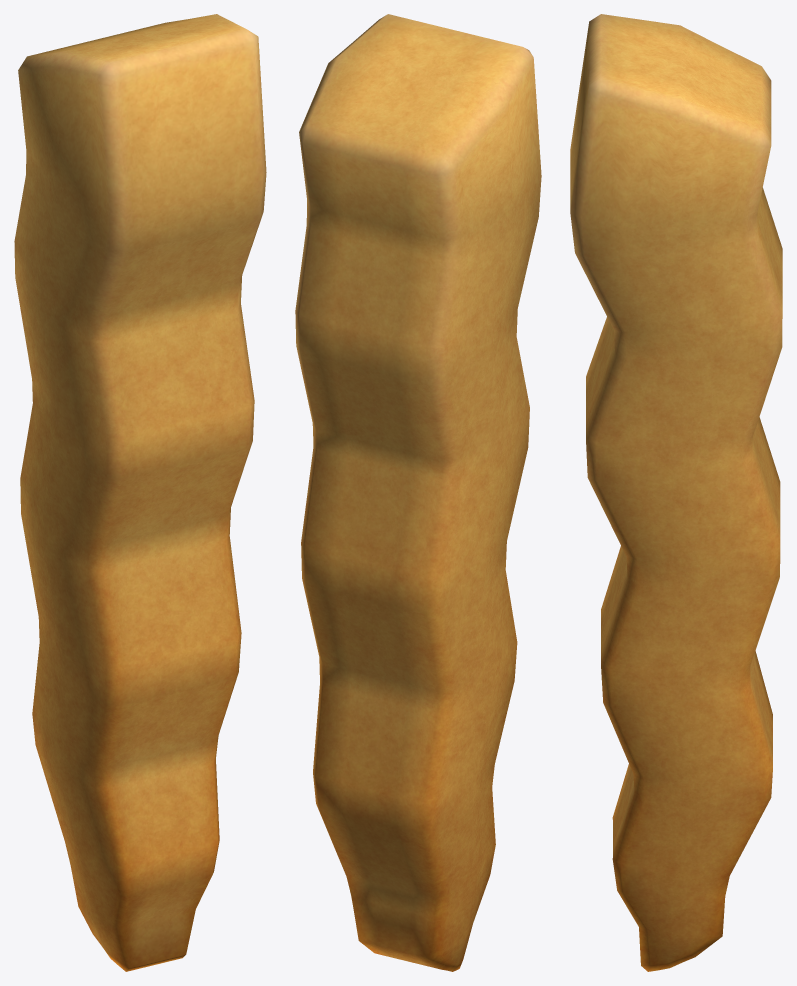
File: serrated-french-fries.fbx
The picture shows the model from 3 angles, left to right: view 1: azimuth 30°, elevation 25°; view 2: azimuth 150°, elevation 25°; view 3: azimuth 270°, elevation 25°; orthographic projection. The views are drawn at different scales.
Visible parts, largest first — view 1: SerratedFrenchFries_SerratedFrenchFries_0; view 2: SerratedFrenchFries_SerratedFrenchFries_0; view 3: SerratedFrenchFries_SerratedFrenchFries_0.
Boxes of the visible parts, x1,y1,x2,y2 form: SerratedFrenchFries_SerratedFrenchFries_0: [14, 14, 266, 971]; SerratedFrenchFries_SerratedFrenchFries_0: [295, 14, 541, 971]; SerratedFrenchFries_SerratedFrenchFries_0: [570, 14, 782, 971].
Size of the model in its own units: 8.34 by 41.19 by 8.69.
1 material, 1 textured.
